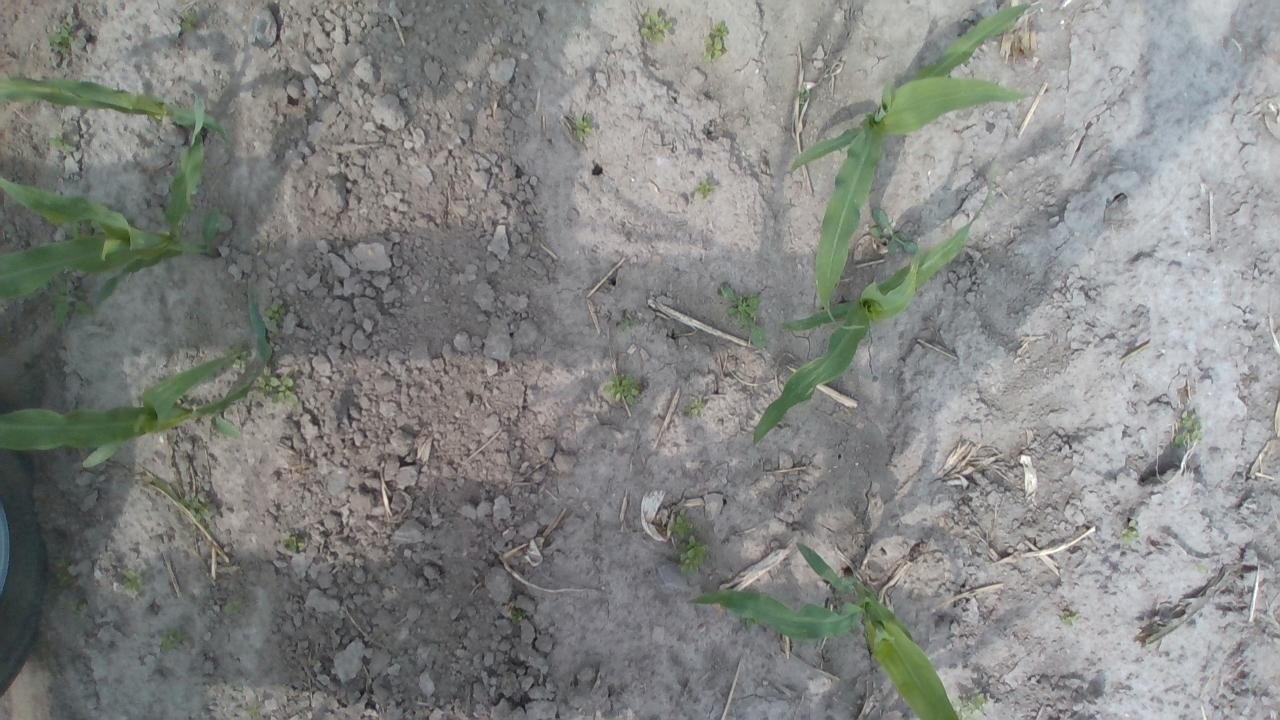Maize: (787, 0, 1039, 327), (748, 162, 996, 442), (0, 289, 278, 472), (684, 541, 964, 720), (1, 122, 226, 326), (0, 70, 229, 147)
Weeds: (719, 286, 768, 352), (43, 549, 89, 614), (866, 206, 918, 257), (670, 516, 706, 578), (46, 283, 88, 321), (1174, 408, 1202, 450), (263, 373, 296, 408), (180, 491, 222, 516), (602, 376, 638, 405), (638, 12, 670, 44), (957, 691, 992, 718), (704, 19, 727, 59), (50, 22, 74, 57), (570, 115, 596, 141), (123, 568, 145, 595), (160, 629, 183, 651), (180, 9, 198, 33), (690, 394, 704, 416), (280, 536, 298, 552), (618, 318, 638, 332), (1064, 610, 1078, 628), (698, 183, 709, 197)
